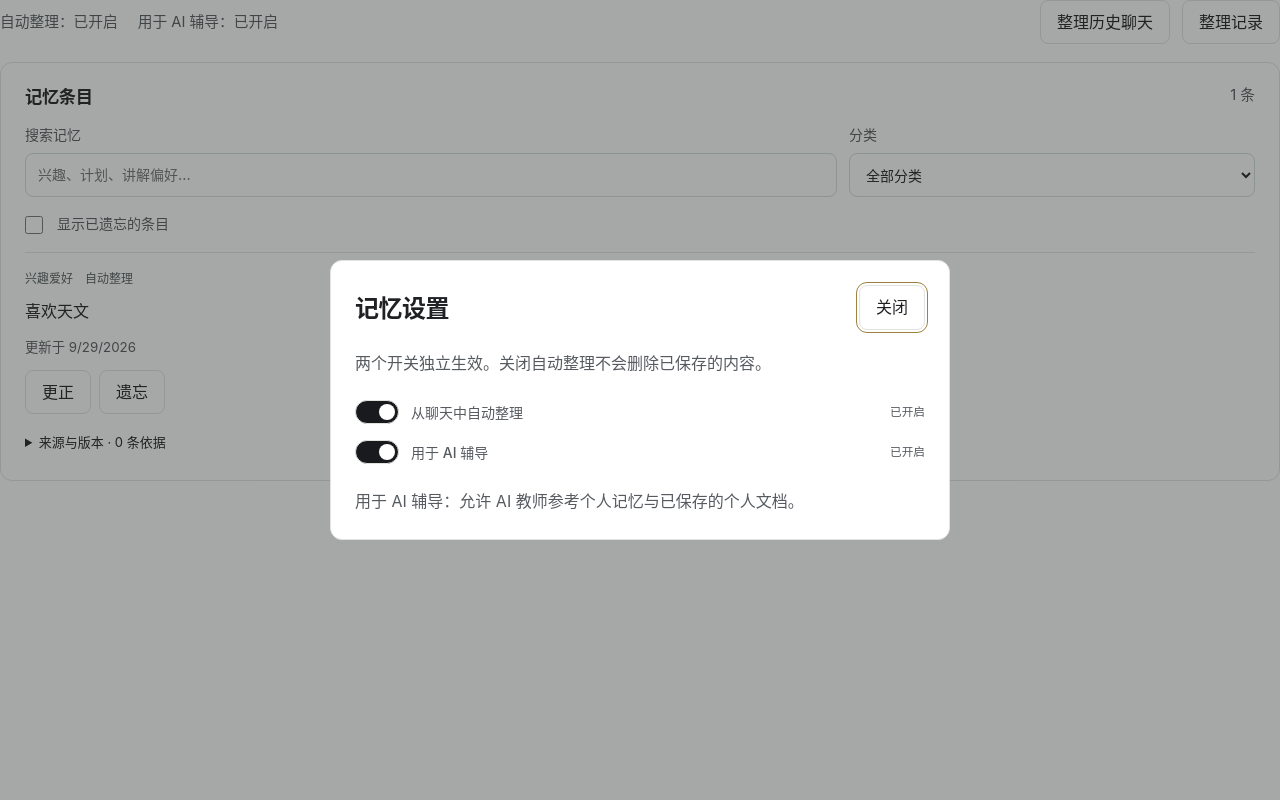
Test: restores the real setting after a rejected update
Click the switch labelled "用于 AI 辅导" at (377, 452), box [355,440,399,464]
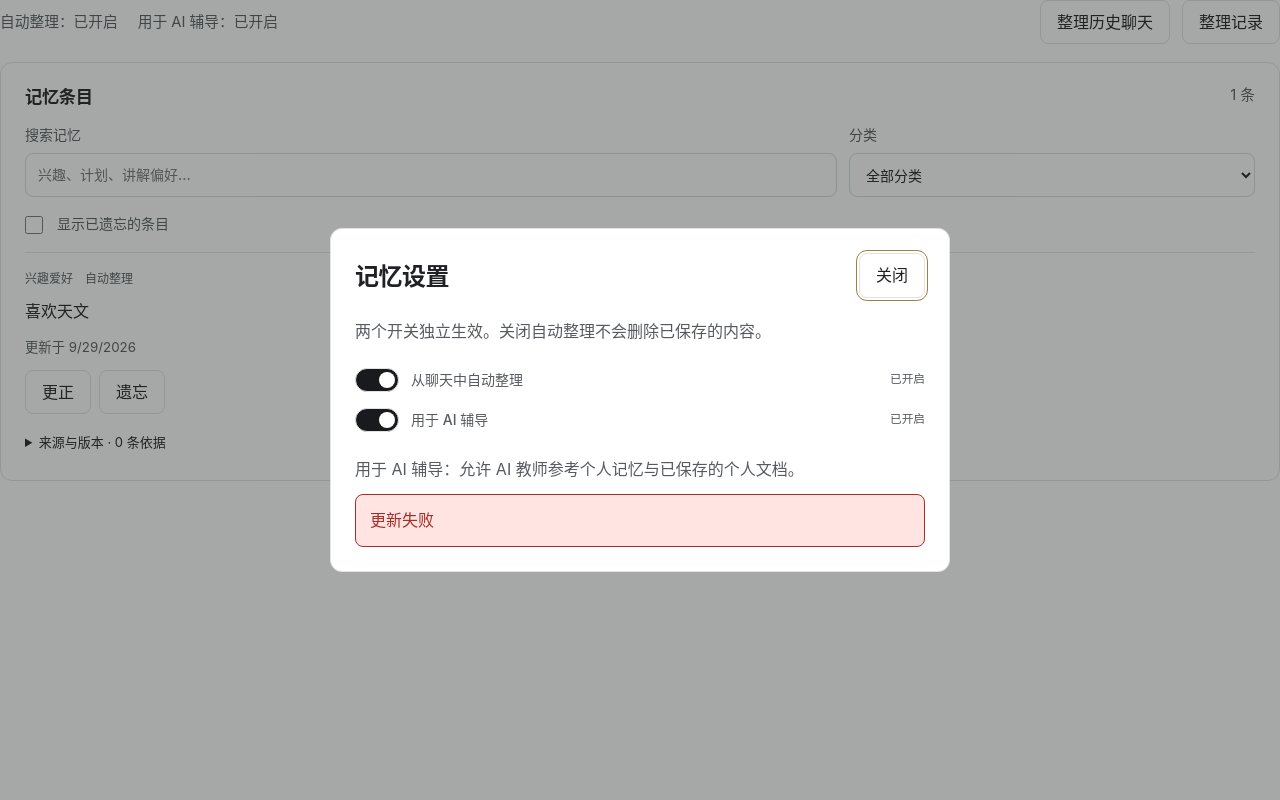
Expected: the switch labelled "用于 AI 辅导" is checked, [355,408,399,432]
Result: the text "更新失败" is shown at [355,494,925,547]
